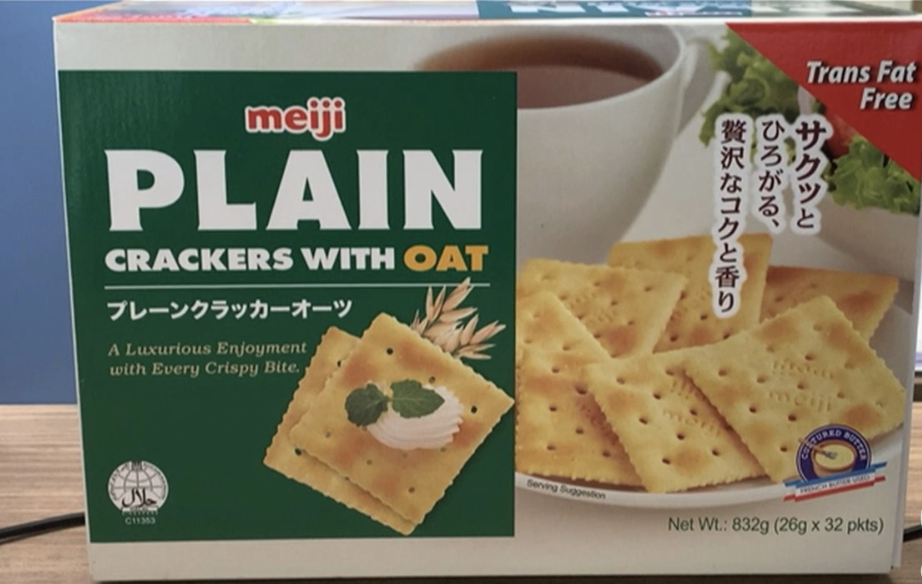crackers_550g: (101, 58, 902, 550)
